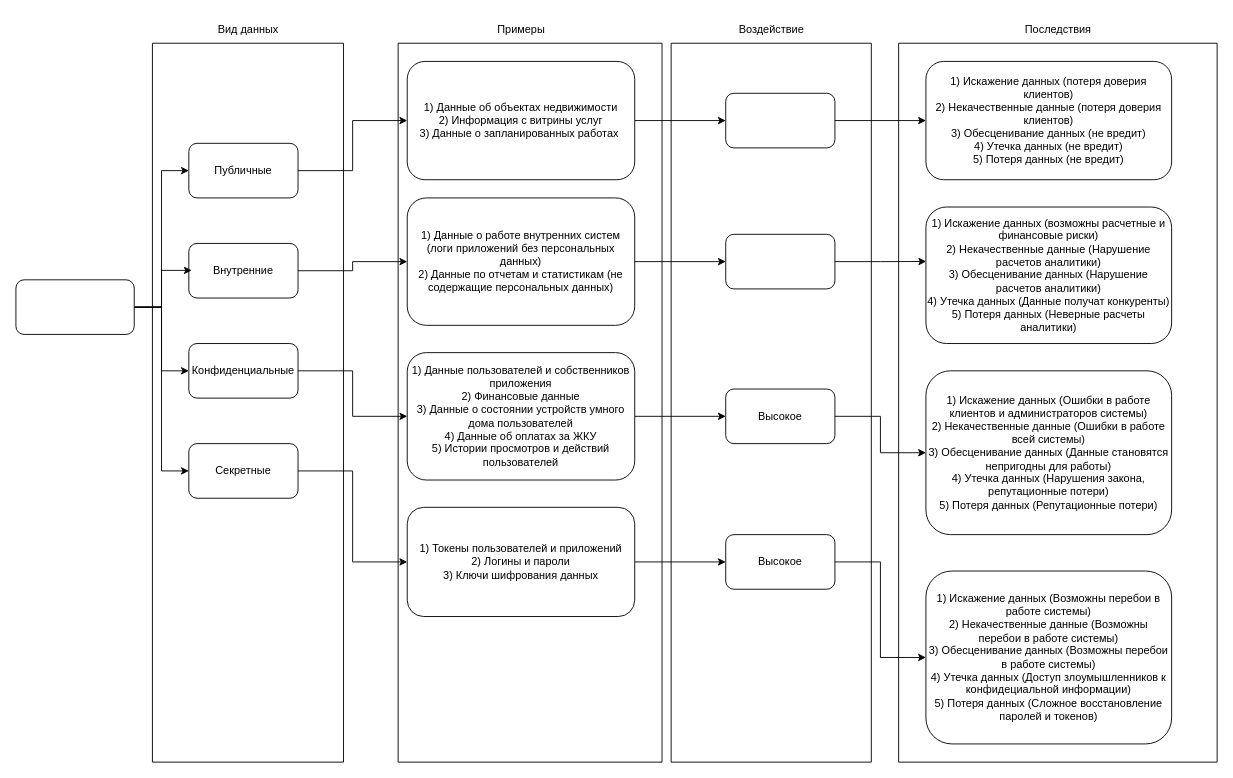
Some shapes in this 1233 by 778 pixel diagram are drawn without their labels. Each missing label, with the centre of its shape:
Безопасность: pixel 74 306
Низкое: pixel 780 120
Умеренное: pixel 780 261
